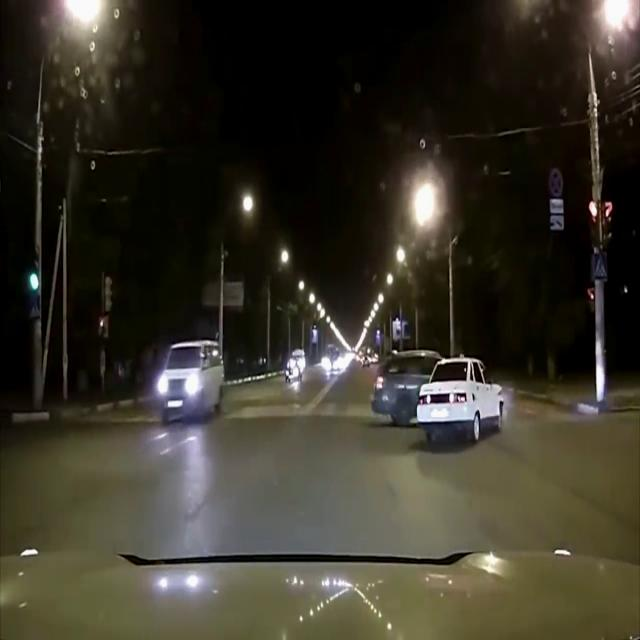accident: (372, 350, 508, 450)
non-accident: (283, 344, 357, 386)
